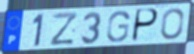1: (31, 12, 45, 48)
3: (80, 10, 103, 46)
G: (105, 10, 131, 44)
O: (159, 7, 185, 41)
P: (130, 8, 160, 43)
Z: (49, 12, 79, 48)
